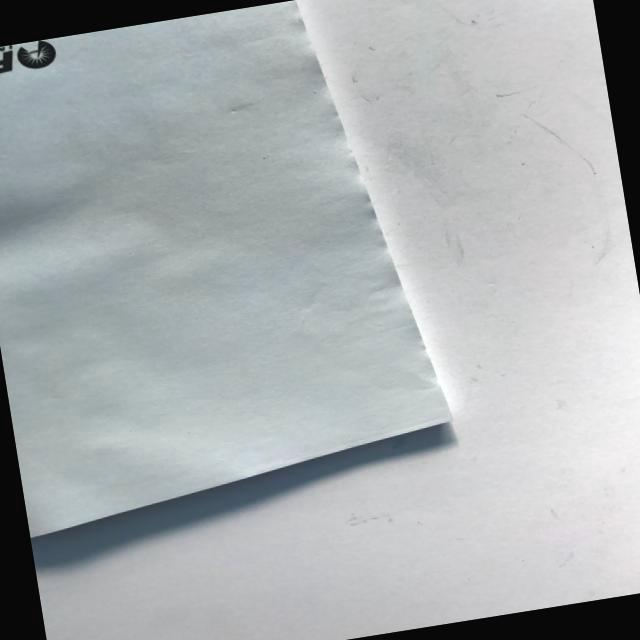paper: (0, 0, 479, 557)
